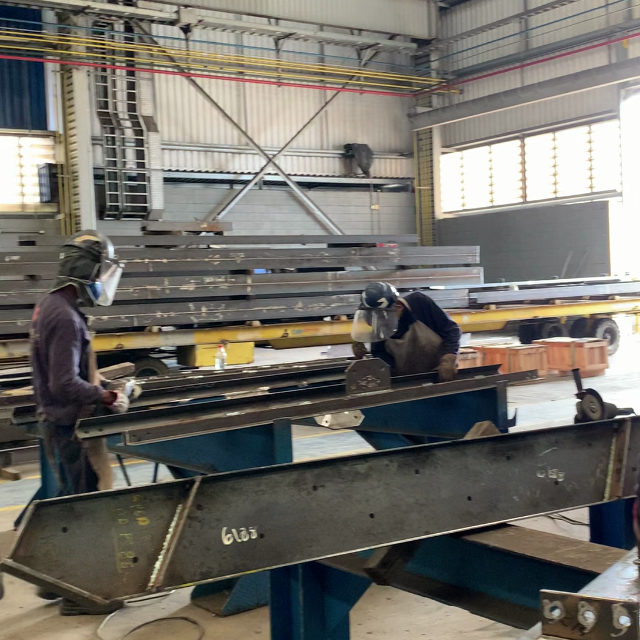face-shield: (349, 308, 400, 344), (95, 260, 129, 305)
glove: (430, 353, 460, 382), (110, 391, 127, 414), (125, 380, 141, 400)
helmet: (361, 283, 406, 315), (59, 229, 116, 247)
person: (29, 230, 144, 481), (351, 282, 459, 381)
safety-shoe: (61, 598, 123, 616)
